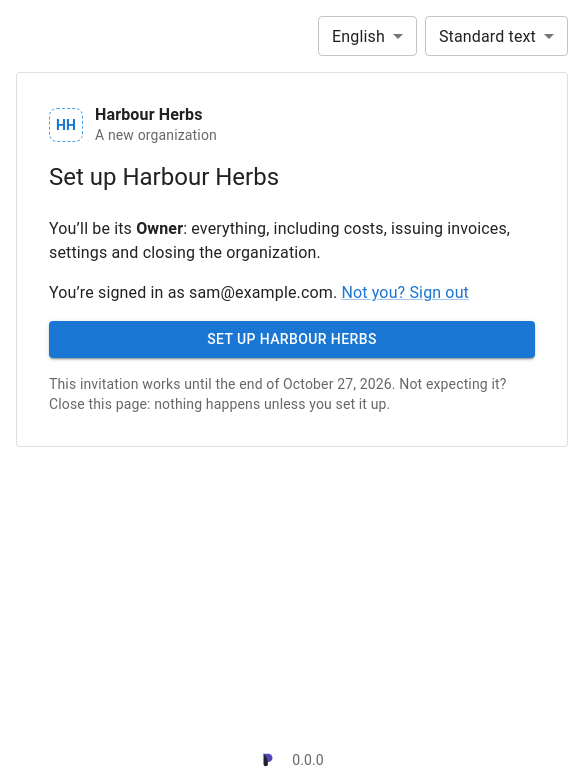
InvitationPage, an organization invitation › reads an ended link as ended, by its code
This screenshot has width=585, height=784.
Click the button "Set up Harbour Herbs".
click(292, 339)  # box x1=49 y1=321 x2=535 y2=358
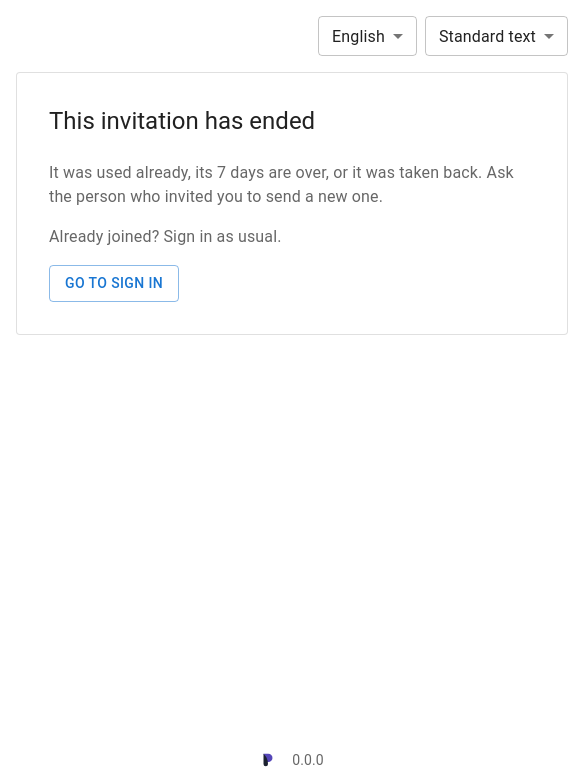
Check: the heading "This invitation has ended" is shown, box x1=49 y1=107 x2=315 y2=135
